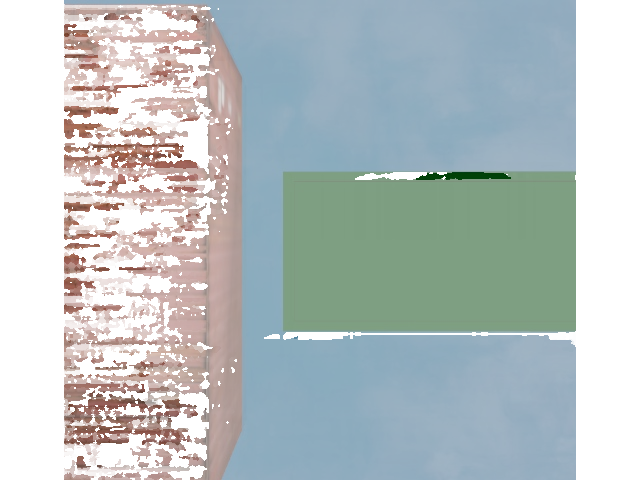container2: (278, 169, 619, 338)
container4: (0, 0, 251, 472)
